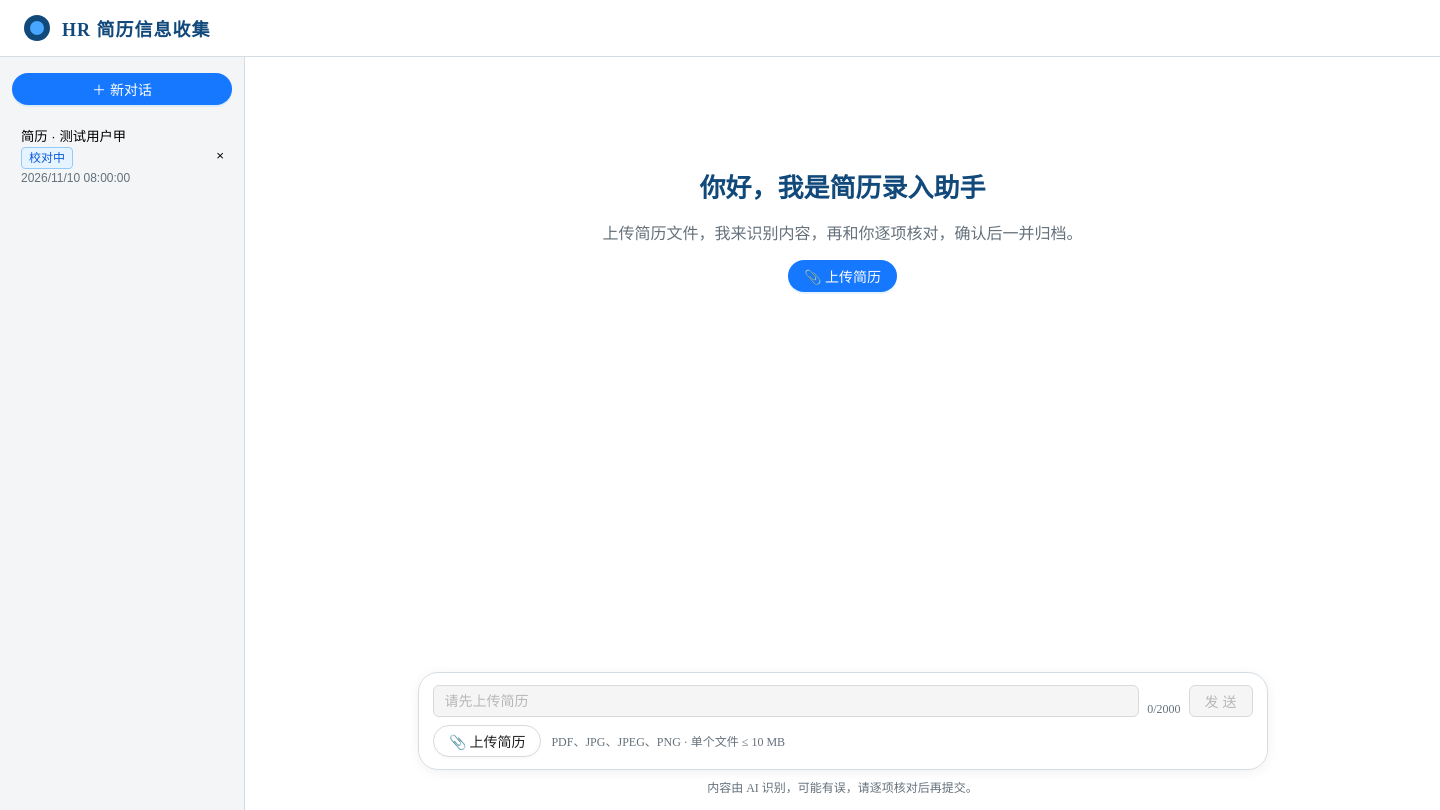
Test: F-03: "已保存" only after a confirmed save (HIGH_RISK, deterministic) › a network failure, re-read still reviewing: no success anywhere, the session stays in review and can be retried
Later steps or results of the test are not shown.
Click the button "简历 · 测试用户甲 校对中 2026/11/10 08:00:00". click: click(108, 156)
box: [12, 117, 204, 194]
(page scrolled)
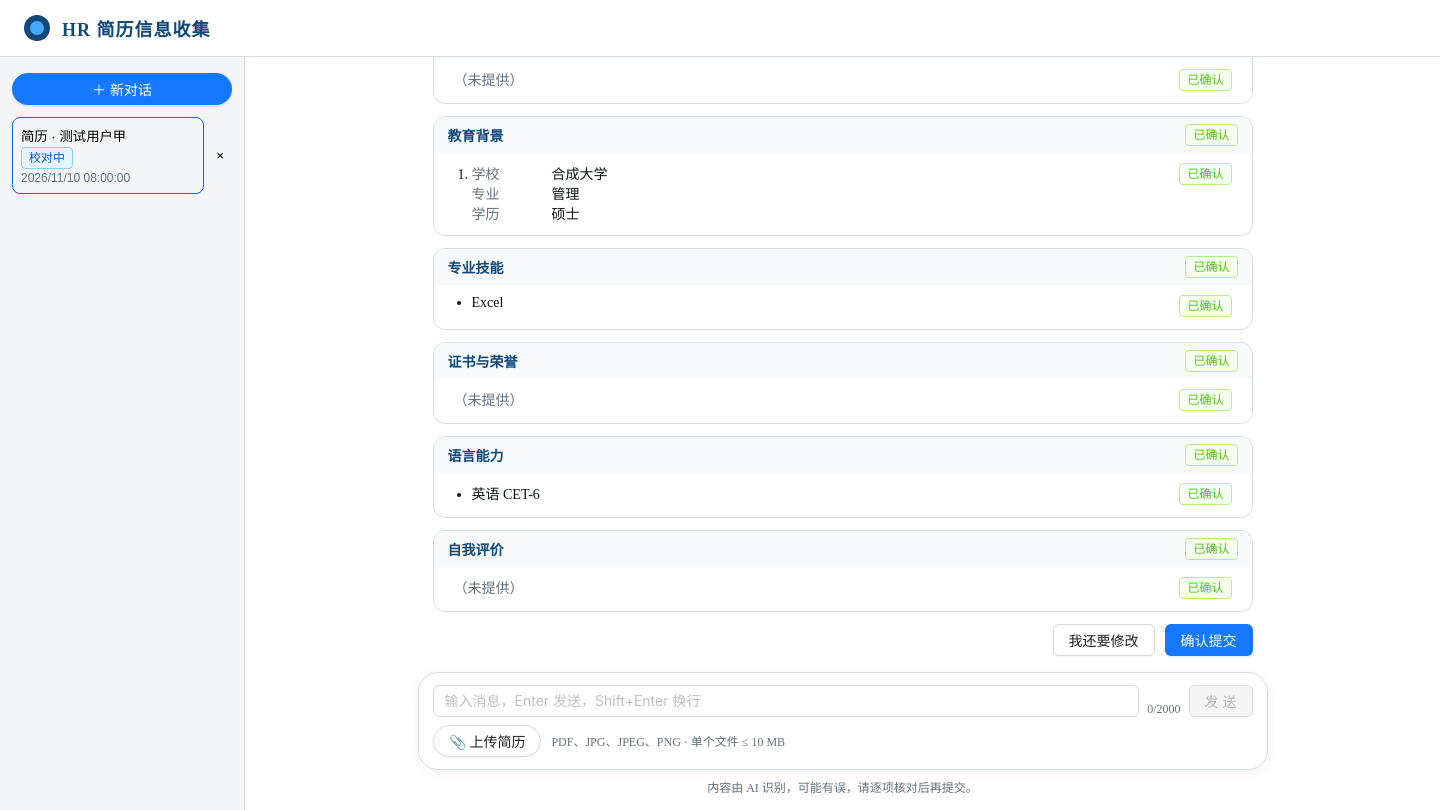
Click the button "确认提交". click: click(1208, 640)
box: [1164, 624, 1252, 656]
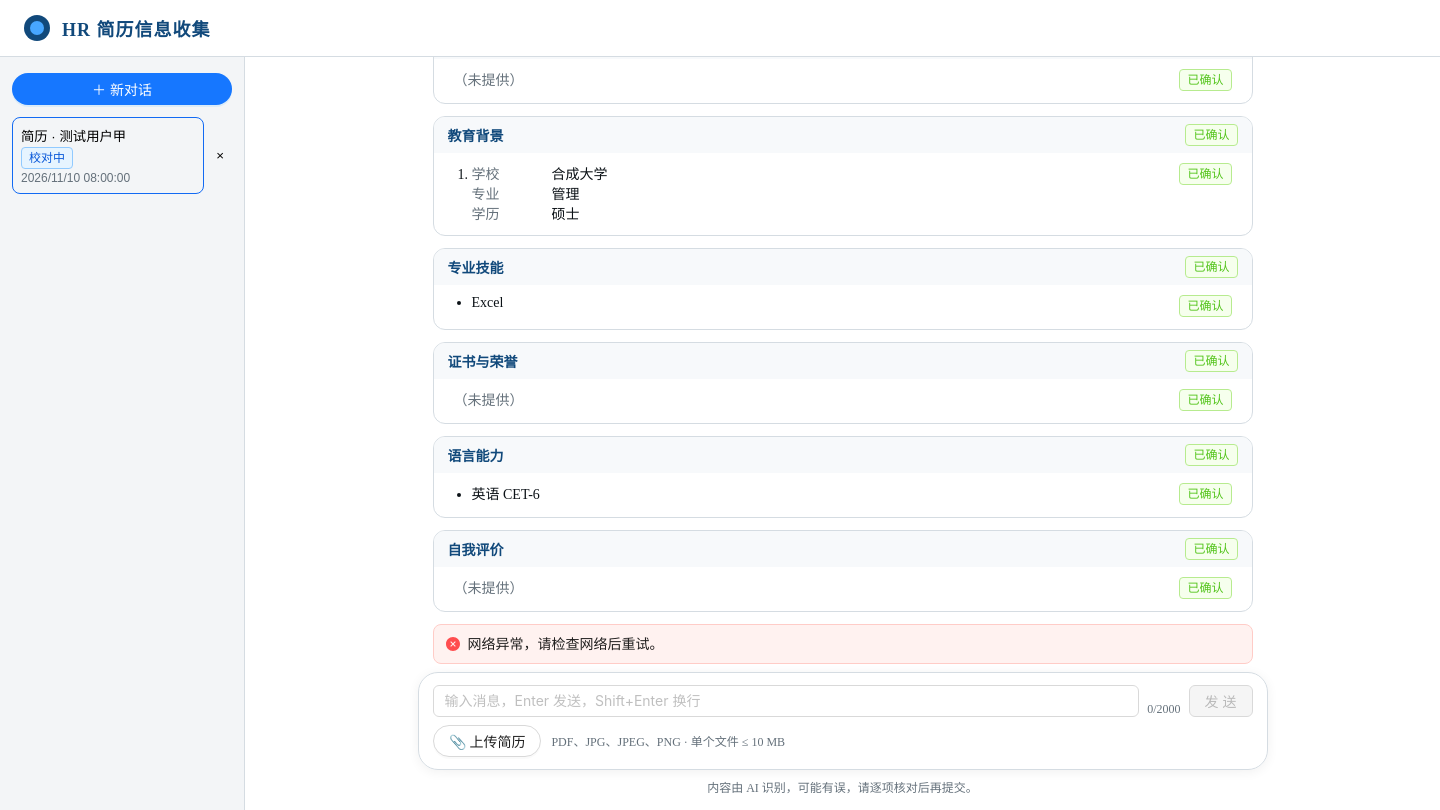
Check: the message "网络异常，请检查网络后重试。" is shown, box [432, 624, 1252, 664]
